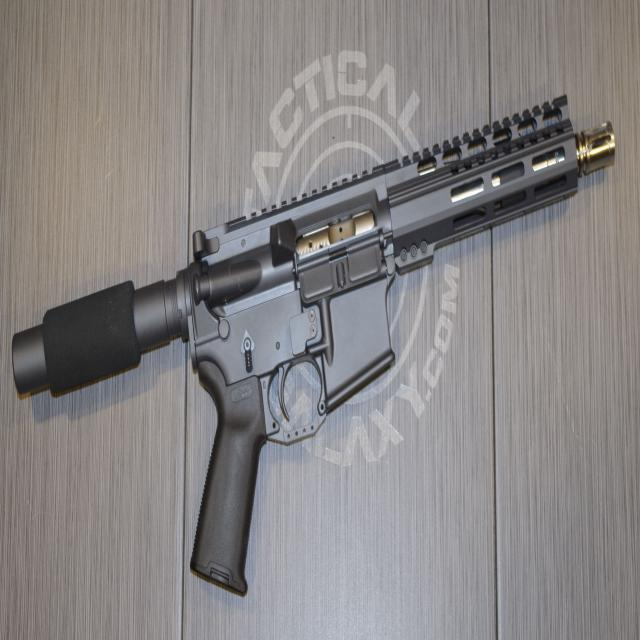Rifle: (10, 97, 617, 598)
